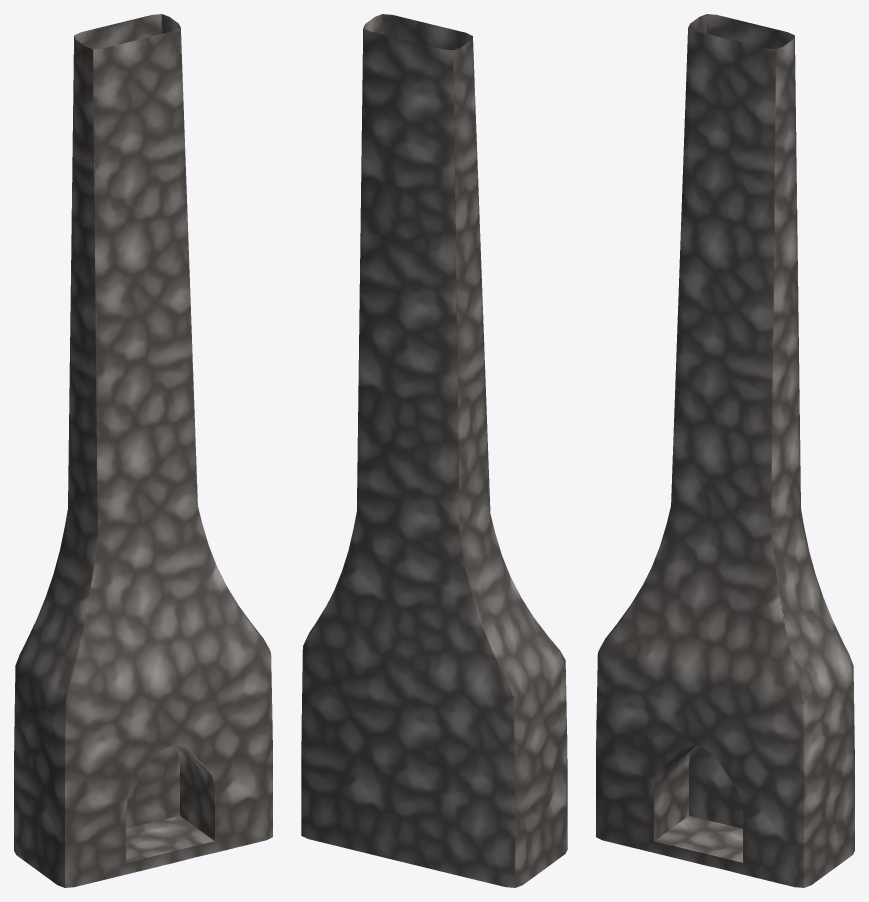
Rendered from fireplace1.FBX.
3 renders of one model, left to right at view 1: azimuth 30°, elevation 25°; view 2: azimuth 150°, elevation 25°; view 3: azimuth 330°, elevation 25°, orthographic. The views are drawn at different scales.
Visible parts, largest first — view 1: chimney; view 2: chimney; view 3: chimney.
Boxes of the visible parts, x1,y1,x2,y2 form: chimney: [14, 14, 272, 887]; chimney: [301, 14, 567, 887]; chimney: [596, 14, 854, 887].
Size of the model in its own units: 140 by 61.53 by 503.
